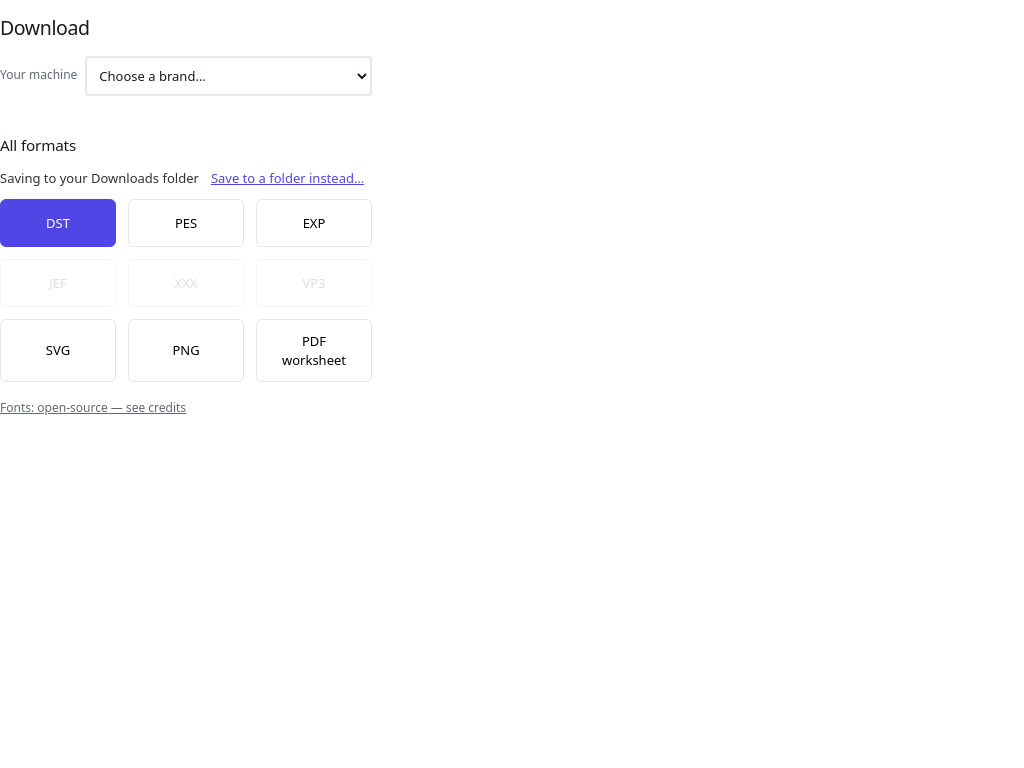
Test: hoop and preflight share ONE dialog, and it states both reasons
Click the button "DST" at (58, 223), box [0,199,116,247]
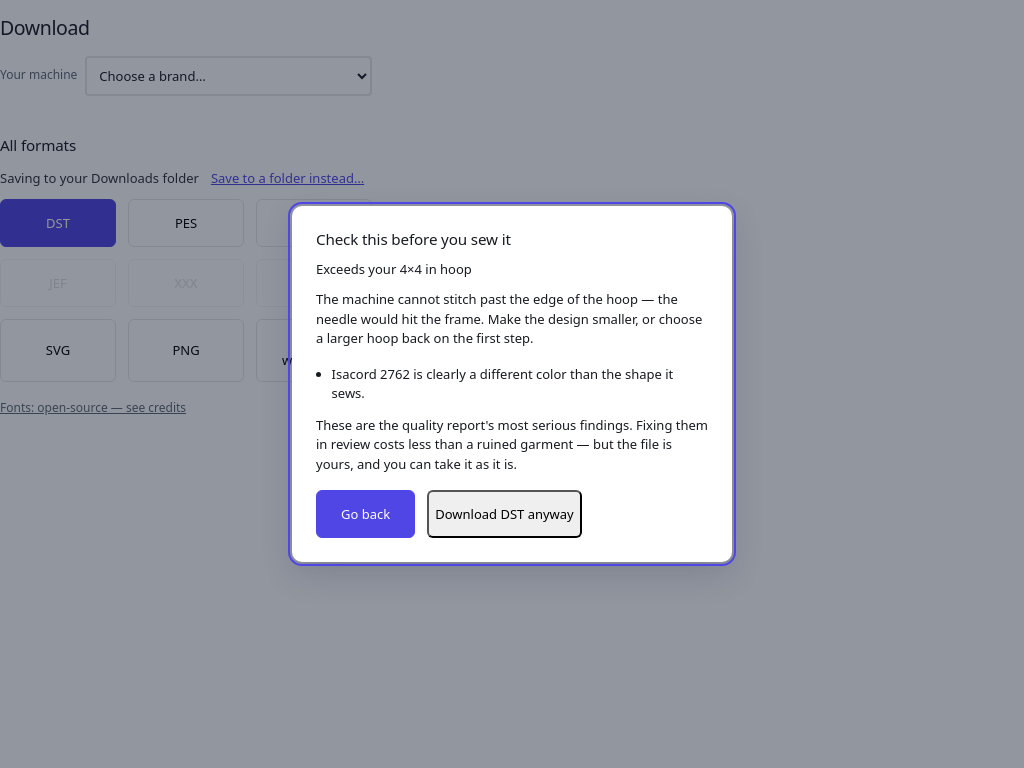
Expected: the number of dialogs is 1, [292,206,732,562]
Expected: the dialog shows "Exceeds your 4×4 in hoop", [316,260,472,278]
Expected: the dialog shows "clearly a different color", [332,365,673,402]
